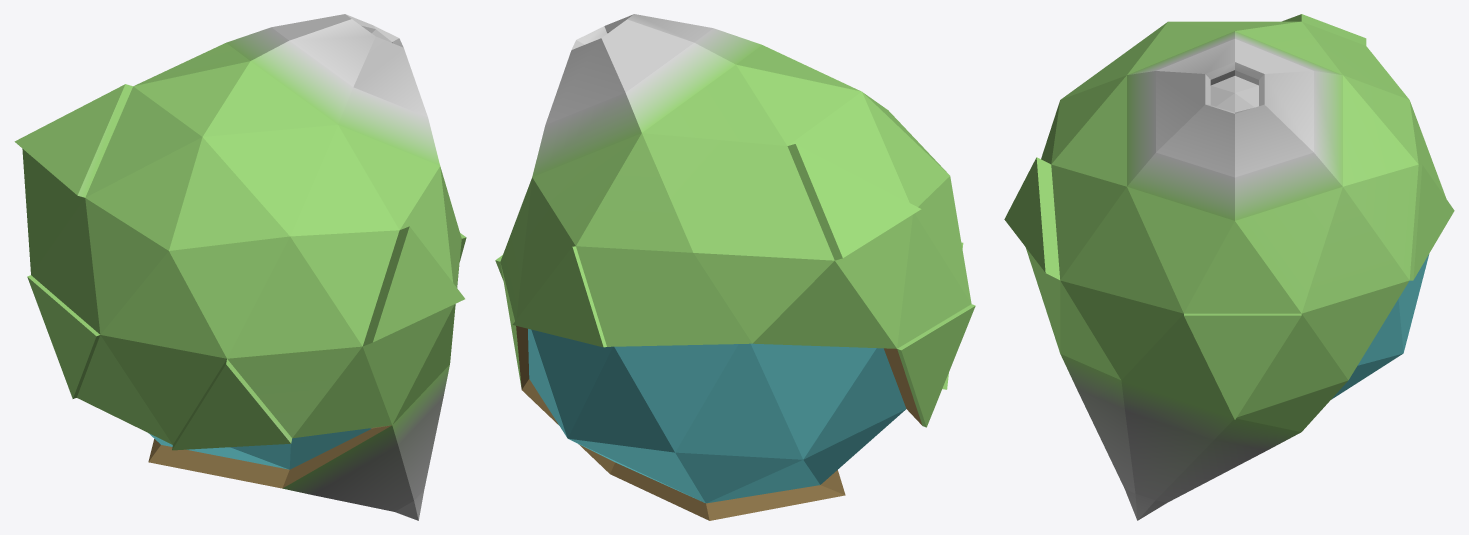
Rendered from planet02.fbx.
3 views of the same model, side by side, from view 1: azimuth 30°, elevation 25°; view 2: azimuth 150°, elevation 25°; view 3: azimuth 270°, elevation 25° (orthographic). The views are drawn at different scales.
Parts seen in each view (by area): view 1: Icosphere; view 2: Icosphere; view 3: Icosphere.
Boxes of the visible parts, bbox=[...] form: Icosphere: bbox=[14, 14, 466, 520]; Icosphere: bbox=[495, 14, 975, 520]; Icosphere: bbox=[1004, 14, 1454, 520].
Size of the model in its own units: 1.96 by 2.31 by 2.08.
